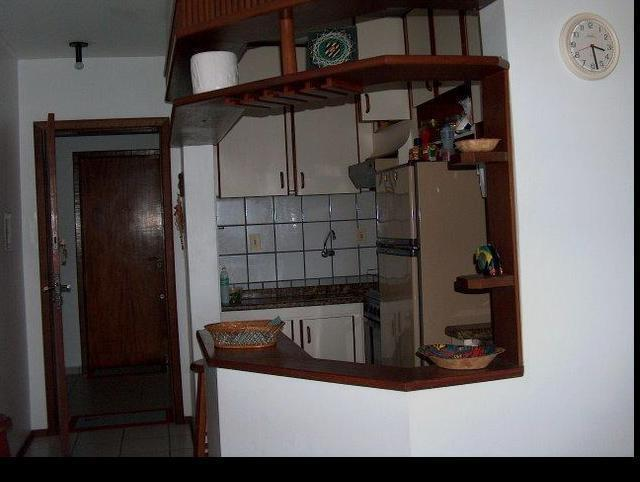Electrodomestico: (373, 170, 488, 361)
Puerta: (28, 114, 181, 437), (71, 148, 172, 371)
